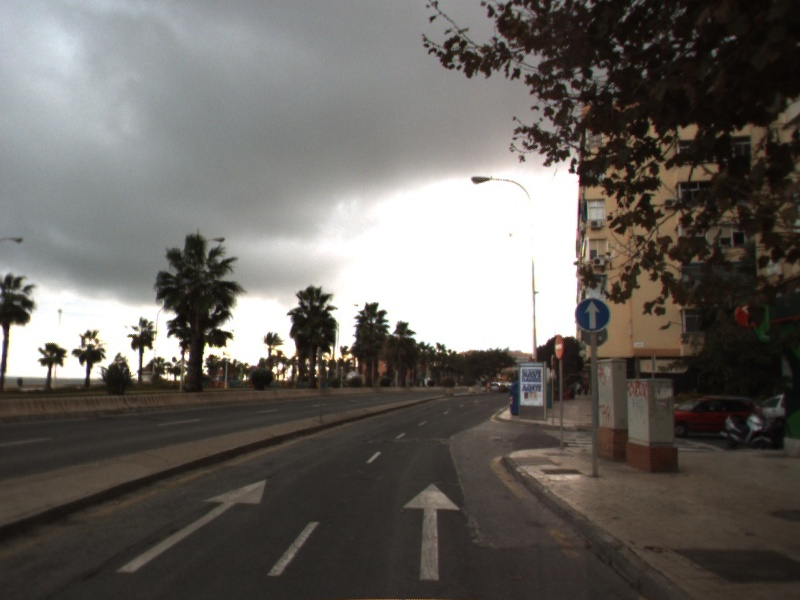STRAIGHT: (114, 477, 268, 574), (401, 481, 462, 582)
